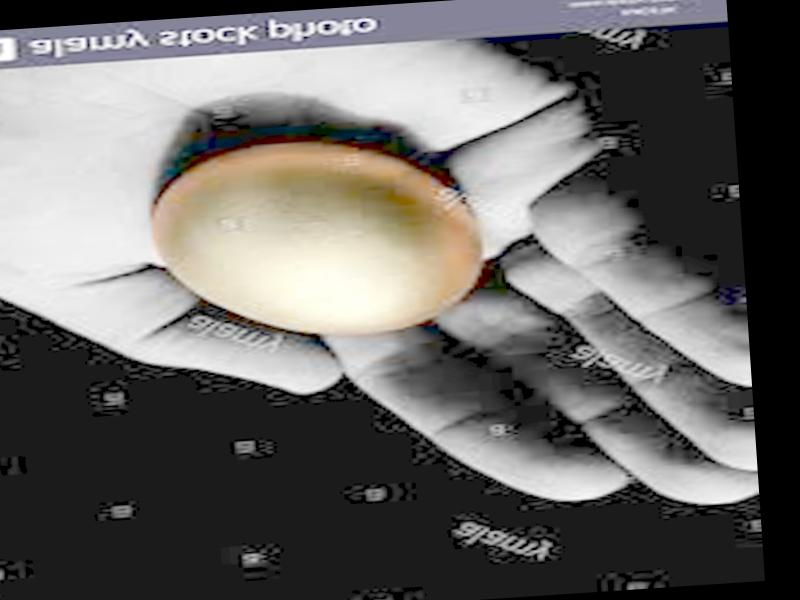Eggs: (151, 134, 488, 346)
